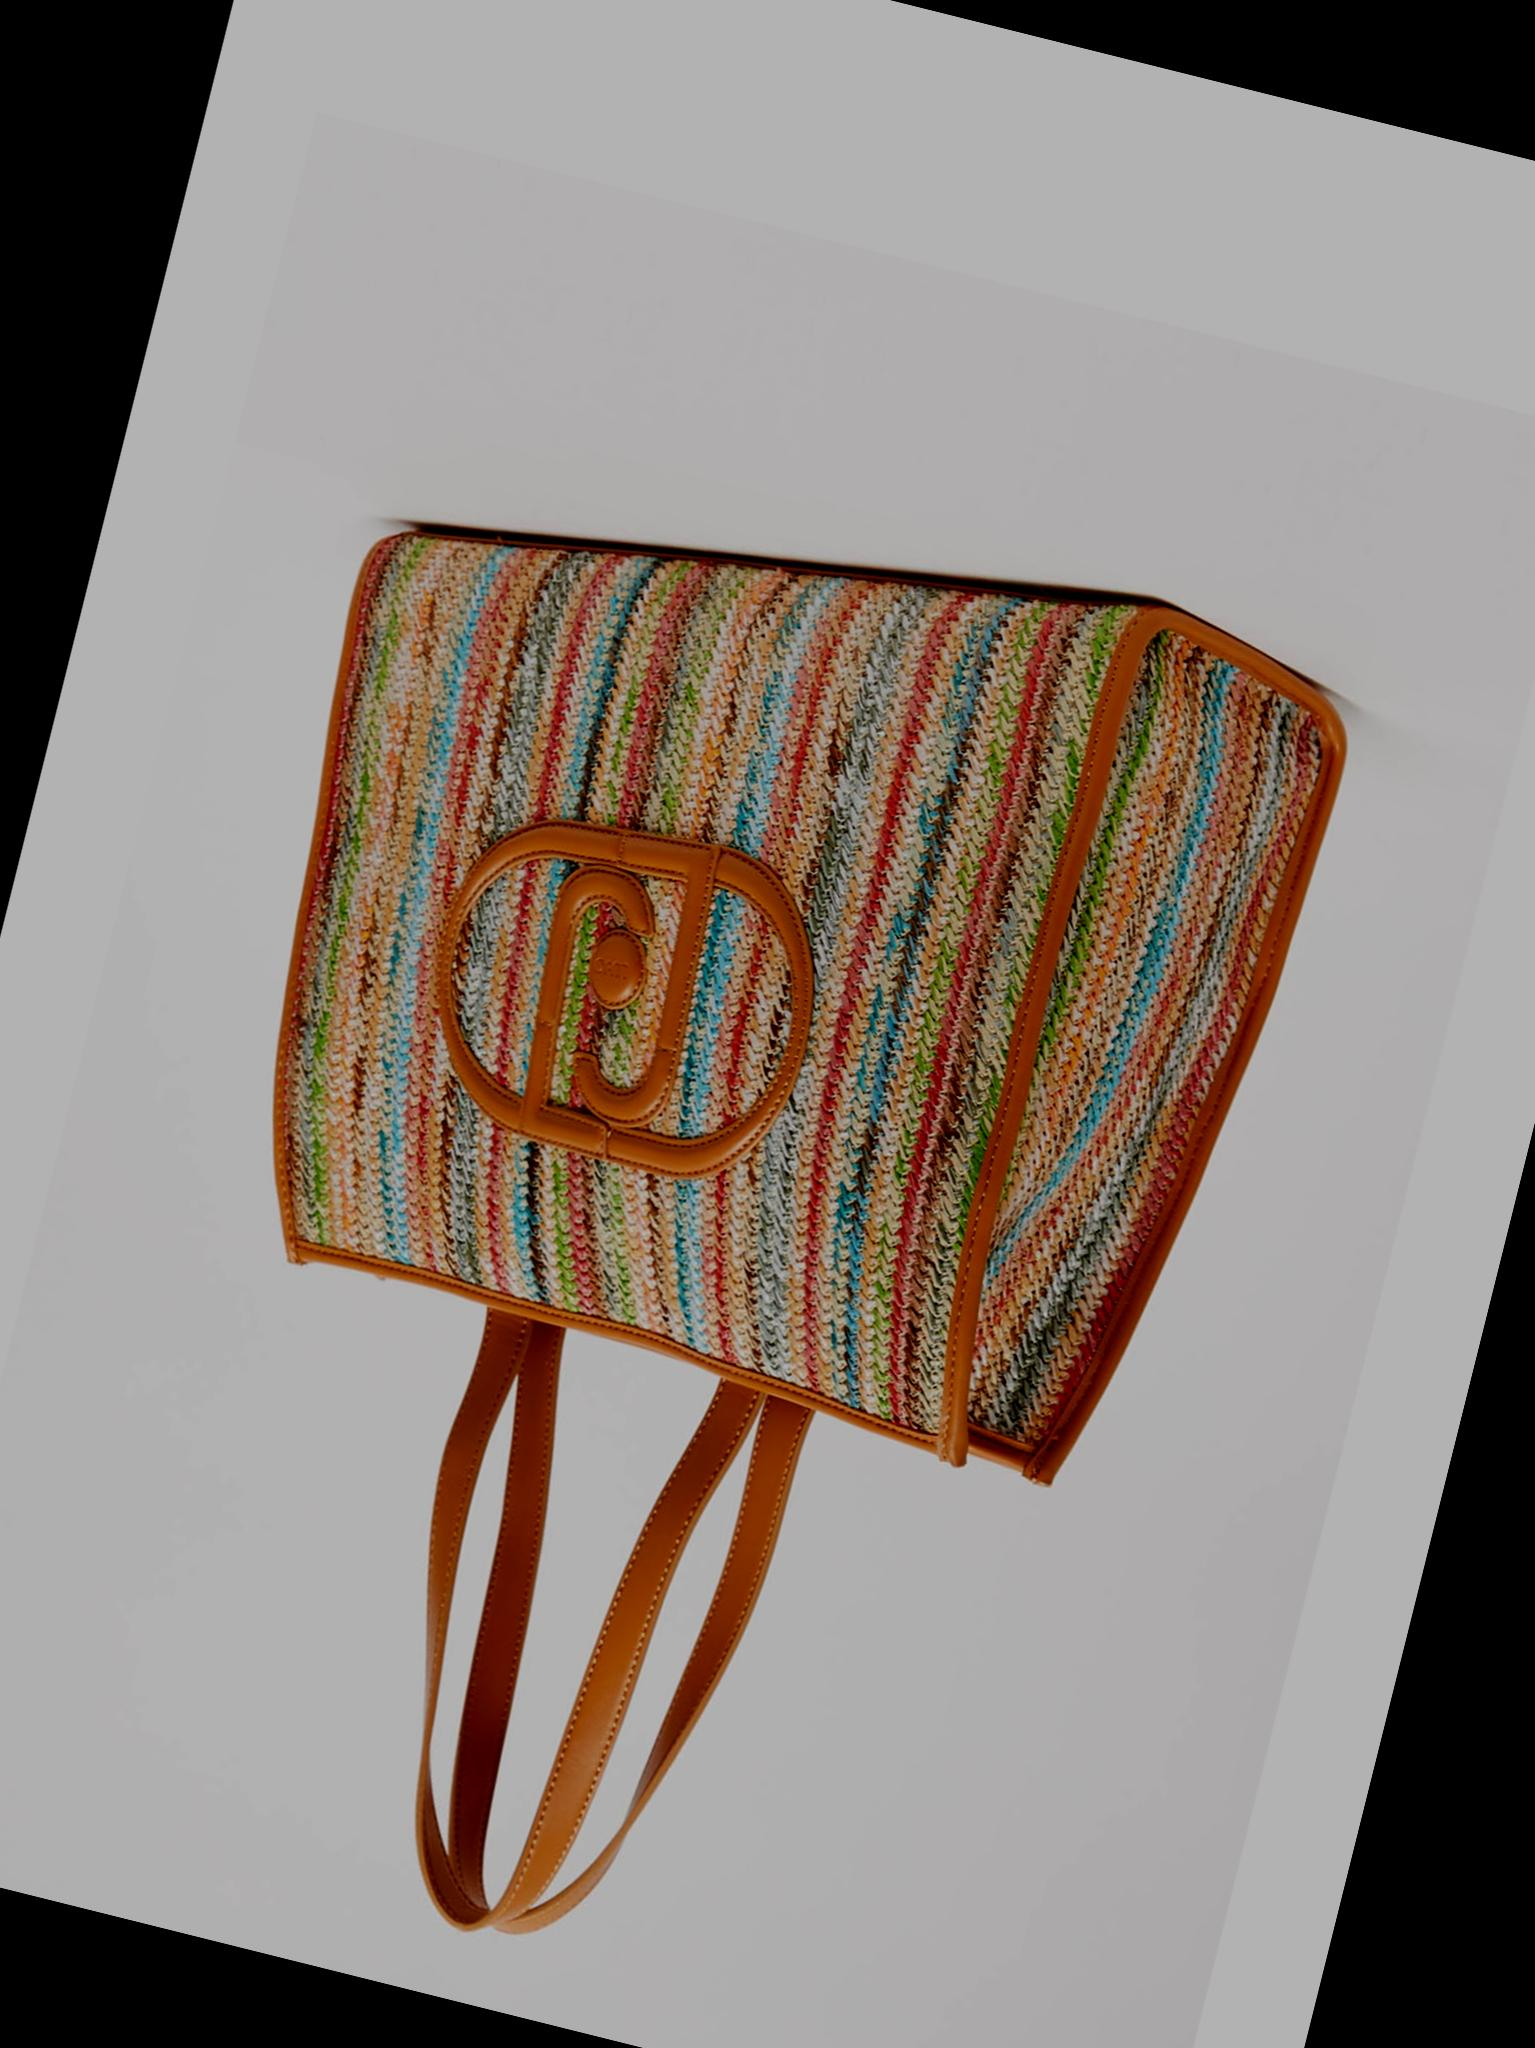LIU-JO: (492, 808, 732, 1171)
